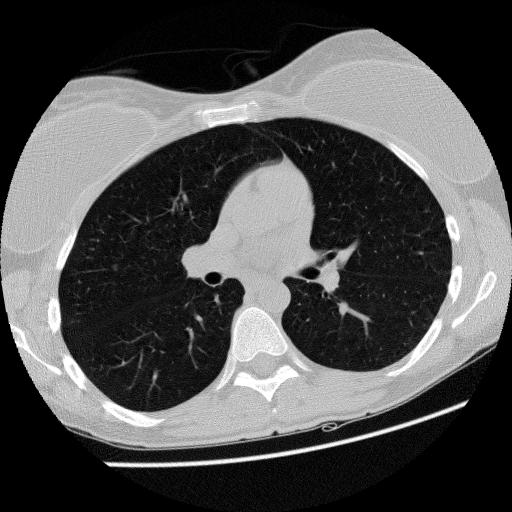nodule: (110, 262, 121, 273)
